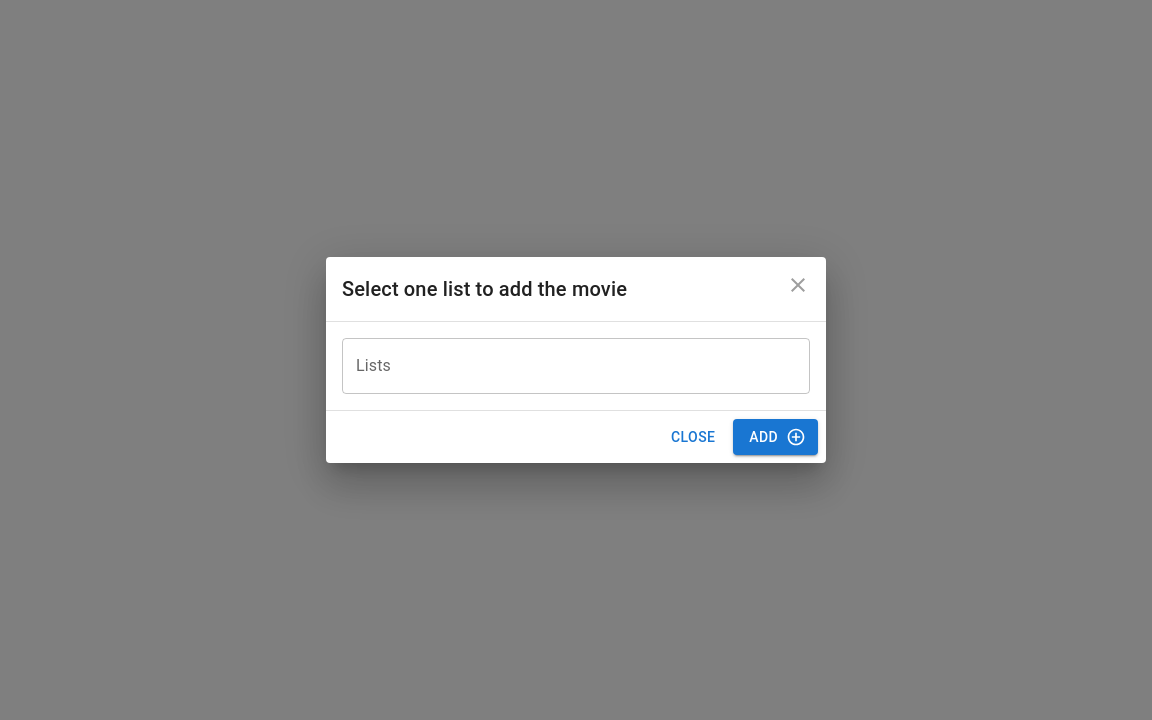
Test: the options of the autocomplete must be the names of the lists of the user, including one with the name Watchlist
The width and height of the screenshot is (1152, 720).
Step 1. Click the dropdown → (561, 366), box 351,347 -> 771,385
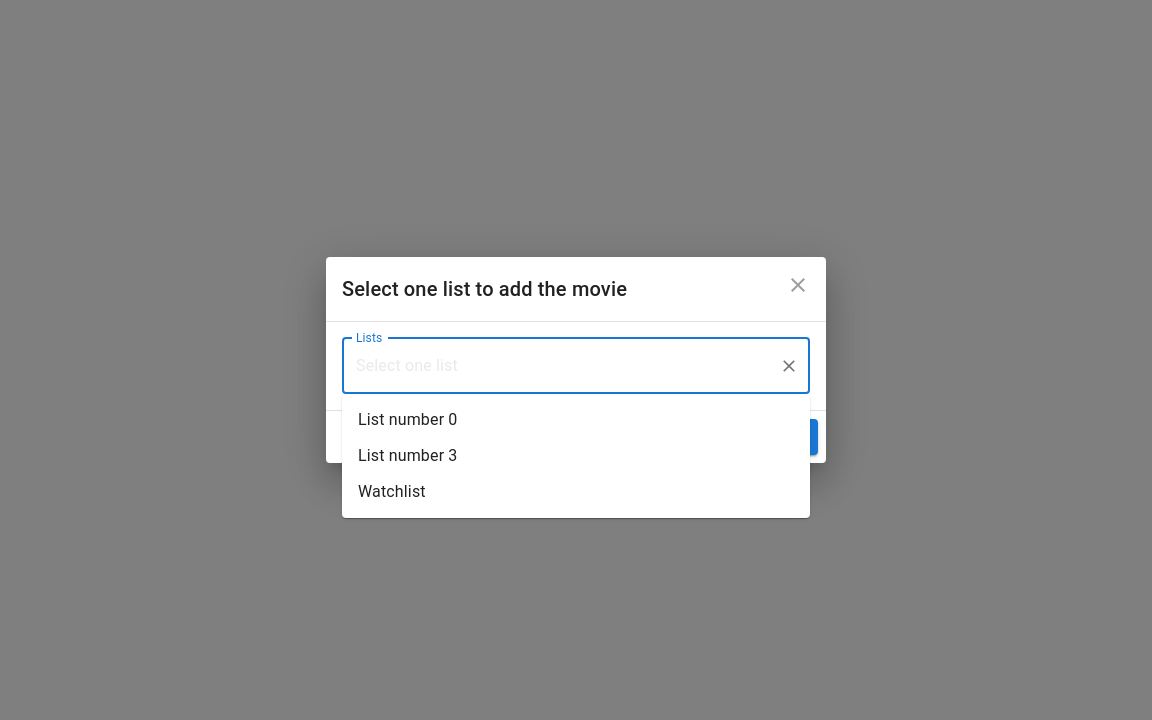
Expected: the option "Watchlist" is shown, 358,482 -> 426,501
Expected: the option "List number 0" is shown, 358,410 -> 458,429
Expected: the option "List number 3" is shown, 358,446 -> 458,465
